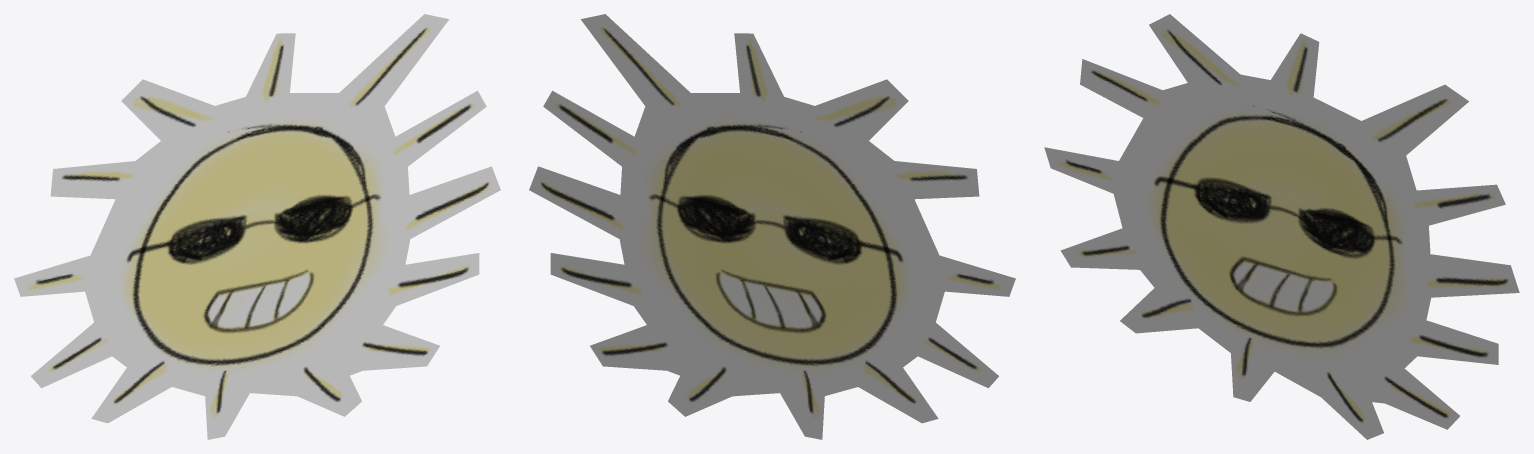
The model's file is Sun.fbx.
3 views of the same model, side by side, from view 1: azimuth 30°, elevation 25°; view 2: azimuth 150°, elevation 25°; view 3: azimuth 330°, elevation 25° (orthographic). The views are drawn at different scales.
Visible parts, largest first — view 1: Sun; view 2: Sun; view 3: Sun.
Part boxes in pixels (box(x1,y1,x2,y2)): Sun: box(14, 14, 500, 439); Sun: box(529, 14, 1015, 439); Sun: box(1044, 14, 1519, 439).
Bounding box in the file's own units: 34.73 × 27.26 × 4.44e-06.
Materials: 1 (1 with a texture image).
